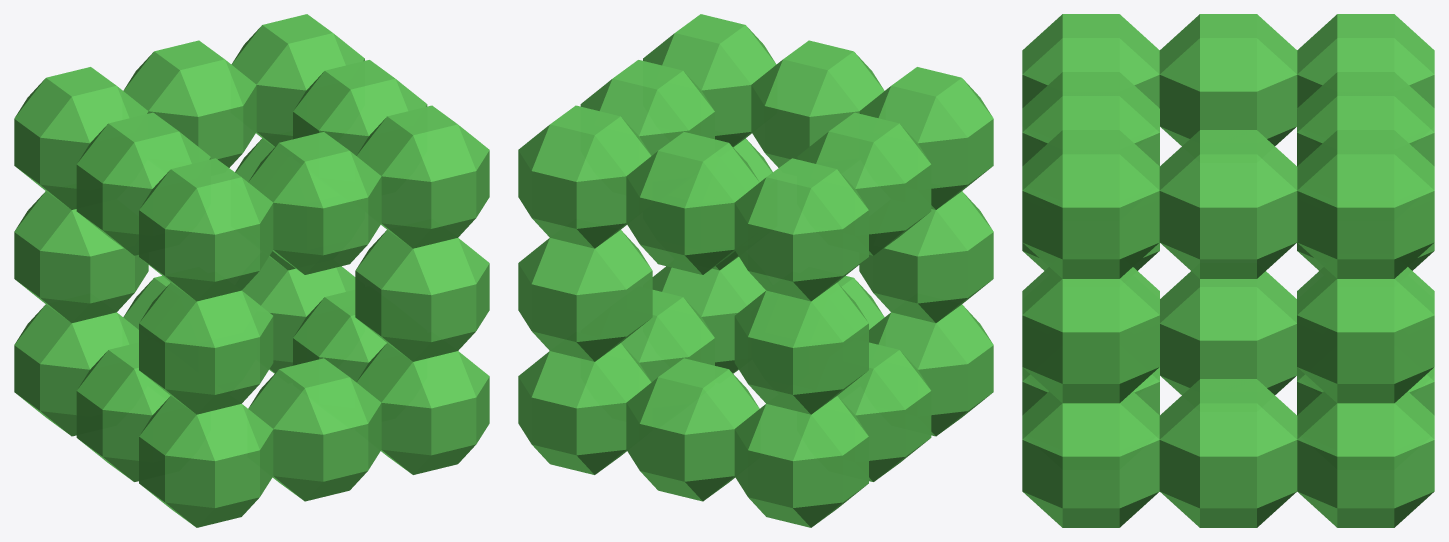
File: fractalrhombicuboctahedron1-1.glb
3 views of the same model, side by side, from view 1: azimuth 30°, elevation 25°; view 2: azimuth 150°, elevation 25°; view 3: azimuth 270°, elevation 25° (orthographic). The views are drawn at different scales.
Bounding box in the file's own units: 7.2 × 7.2 × 7.2.
